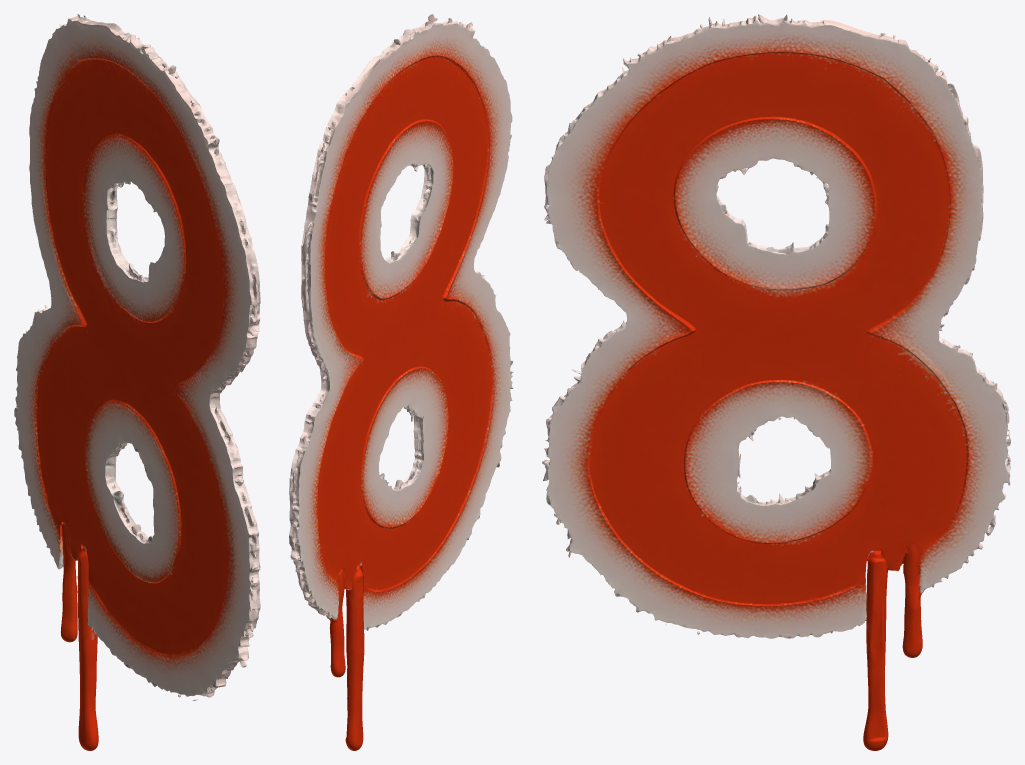
File: tripo_convert_43103e35-d822-4c3e-8906-6e490c592249.obj
3 renders of one model, left to right at view 1: azimuth 30°, elevation 25°; view 2: azimuth 150°, elevation 25°; view 3: azimuth 270°, elevation 25°, orthographic. The views are drawn at different scales.
Parts seen in each view (by area): view 1: tripo_node_43103e35-d822-4c3e-8906-6e490c592249; view 2: tripo_node_43103e35-d822-4c3e-8906-6e490c592249; view 3: tripo_node_43103e35-d822-4c3e-8906-6e490c592249.
Part boxes in pixels (left/top/right/bottom): tripo_node_43103e35-d822-4c3e-8906-6e490c592249: left=14, top=14, right=260, bottom=750; tripo_node_43103e35-d822-4c3e-8906-6e490c592249: left=289, top=14, right=513, bottom=750; tripo_node_43103e35-d822-4c3e-8906-6e490c592249: left=542, top=14, right=1010, bottom=750.
Size of the model in its own units: 0.0232 by 1 by 0.5788.
1 material, 1 textured.
